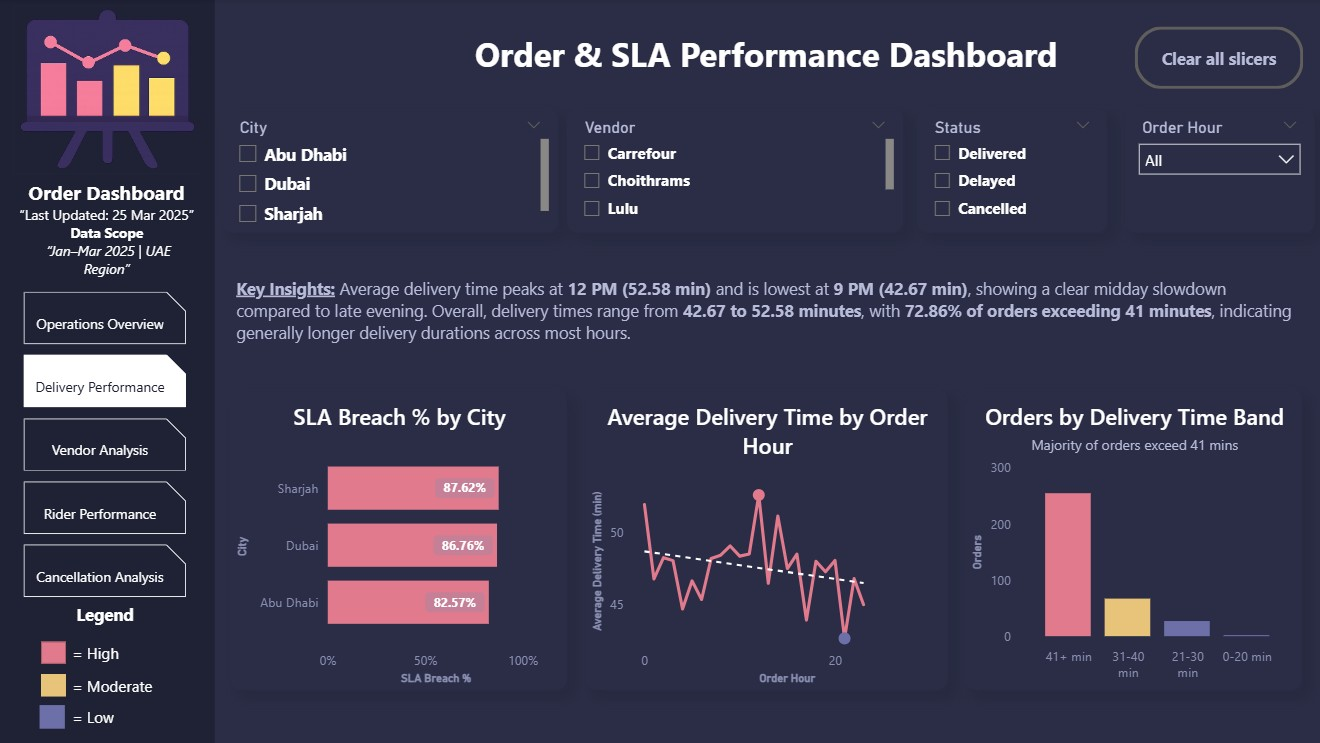

The dashboard page shown, as its layout file describes it:
{"tool":"powerbi","page":{"name":"Delivery Performance","canvas":[1280,720],"ordinal":1},"visuals":[{"type":"shape","box":[1.2,0,209.9,720.2],"z":0,"group":"g4"},{"type":"slicer","fields":{"Values":["Orders.City"]},"box":[218.1,106,324.1,119.5],"z":0,"group":"g1"},{"type":"lineChart","title":"Average Delivery Time by Order Hour","fields":{"Category":["Orders.Order Hour"],"Y":["Orders.Average Delivery Time"]},"box":[569.3,375.8,348.7,290.8],"z":0},{"type":"shape","box":[44.3,620.4,24.2,21.6],"z":0,"group":"g2"},{"type":"image","box":[17.2,6.2,179.9,162.6],"z":1000,"group":"g3"},{"type":"clusteredBarChart","title":"SLA Breach % by City","fields":{"Category":["Orders.City"],"Y":["Orders.SLA Breach %"]},"box":[226.7,375.8,324.1,290.8],"z":1000},{"type":"textbox","box":[69.7,616.1,62.9,31.3],"z":1000,"group":"g2"},{"type":"pageNavigator","box":[27.1,282.2,157.7,295.7],"z":2000,"group":"g3"},{"type":"clusteredColumnChart","title":"Orders by Delivery Time Band","fields":{"Category":["Orders.Delivery Time Band"],"Y":["CountNonNull(Orders.OrderID)"]},"box":[936.2,376.4,324,290.8],"z":2000},{"type":"shape","box":[44.3,651.7,24.2,21.6],"z":2000,"group":"g2"},{"type":"textbox","box":[17.2,168.8,179.9,113.4],"z":3000,"group":"g3"},{"type":"textbox","box":[226.7,262.8,1033.7,82.2],"z":3000},{"type":"textbox","box":[62.8,577.9,87.5,38.2],"z":3000,"group":"g2"},{"type":"group","id":"g1","title":"Group 4","box":[218.1,106,1054.2,119.5],"z":4000},{"type":"slicer","fields":{"Values":["Orders.Vendor"]},"box":[550.8,106,324,119.5],"z":4000,"group":"g1"},{"type":"group","id":"g2","title":"Group 2","box":[43.1,577.9,126.9,131.8],"z":4000,"group":"g3"},{"type":"textbox","box":[69.7,647.4,100.3,31.3],"z":4000,"group":"g2"},{"type":"group","id":"g3","title":"Group 1","box":[17.2,6.2,179.9,703.6],"z":4001,"group":"g4"},{"type":"actionButton","box":[1099.1,27.1,162.6,60.4],"z":5000},{"type":"shape","box":[43.1,681.8,24.2,22.6],"z":5000,"group":"g2"},{"type":"group","id":"g4","title":"Group 3","box":[1.2,0,209.5,720.8],"z":6000},{"type":"slicer","fields":{"Values":["Orders.Order Hour"]},"box":[1089.3,106,183,119.5],"z":6000,"group":"g1"},{"type":"textbox","box":[69.7,678.6,62.9,31.3],"z":6000,"group":"g2"},{"type":"textbox","box":[457.1,27.1,576.7,60.4],"z":7000},{"type":"slicer","fields":{"Values":["Orders.Status"]},"box":[888.4,106,183.6,119.5],"z":8000,"group":"g1"}]}

Visuals, with their boxes in screenshot pixels (x1, y1, x2, y2), scaled from the page's 1280x720 canvas onto the 1320x743 screenshot:
shape: rect(1, 0, 218, 742)
slicer - Orders.City: rect(225, 109, 559, 233)
"Average Delivery Time by Order Hour" lineChart: rect(587, 388, 947, 688)
shape: rect(46, 640, 71, 663)
image: rect(18, 6, 203, 174)
"SLA Breach % by City" clusteredBarChart: rect(234, 388, 568, 688)
textbox: rect(72, 636, 137, 668)
pageNavigator: rect(28, 291, 191, 596)
"Orders by Delivery Time Band" clusteredColumnChart: rect(965, 388, 1300, 689)
shape: rect(46, 673, 71, 695)
textbox: rect(18, 174, 203, 291)
textbox: rect(234, 271, 1300, 356)
textbox: rect(65, 596, 155, 636)
"Group 4" group: rect(225, 109, 1312, 233)
slicer - Orders.Vendor: rect(568, 109, 902, 233)
"Group 2" group: rect(44, 596, 175, 732)
textbox: rect(72, 668, 175, 700)
"Group 1" group: rect(18, 6, 203, 732)
actionButton: rect(1133, 28, 1301, 90)
shape: rect(44, 704, 69, 727)
"Group 3" group: rect(1, 0, 217, 742)
slicer - Orders.Order Hour: rect(1123, 109, 1312, 233)
textbox: rect(72, 700, 137, 733)
textbox: rect(471, 28, 1066, 90)
slicer - Orders.Status: rect(916, 109, 1106, 233)
